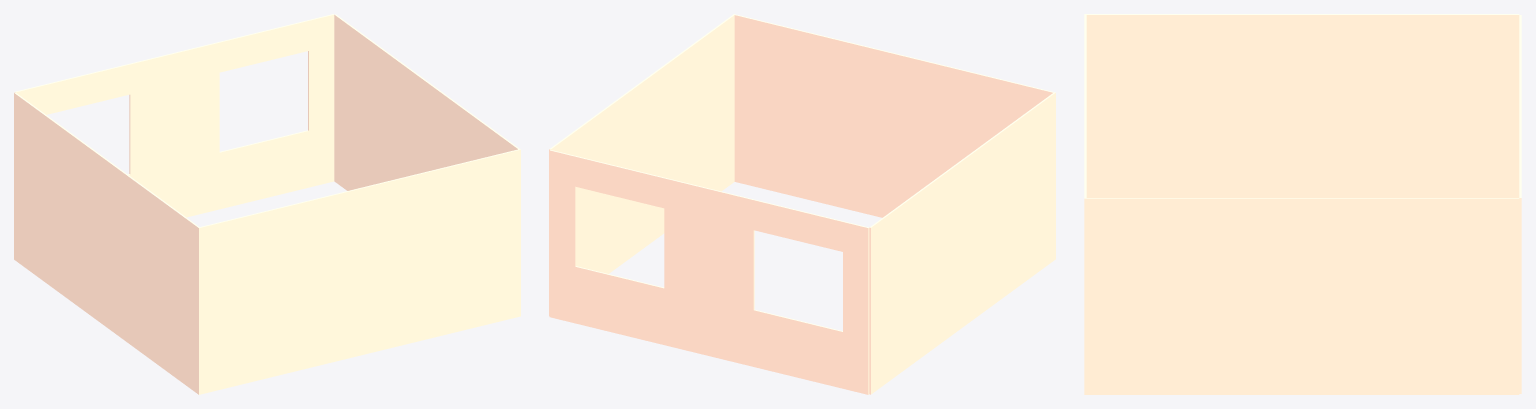
File: walls.fbx
The picture shows the model from 3 angles, left to right: view 1: azimuth 30°, elevation 25°; view 2: azimuth 150°, elevation 25°; view 3: azimuth 270°, elevation 25°; orthographic projection. The views are drawn at different scales.
Visible parts, largest first — view 1: bck_wall3; view 2: bck_wall3; view 3: bck_wall3.
Part boxes in pixels (x1,y1,x2,y2): bck_wall3: [14, 14, 520, 394]; bck_wall3: [549, 14, 1055, 394]; bck_wall3: [1084, 14, 1521, 394].
Size of the model in its own units: 50.5 by 25 by 50.5.
